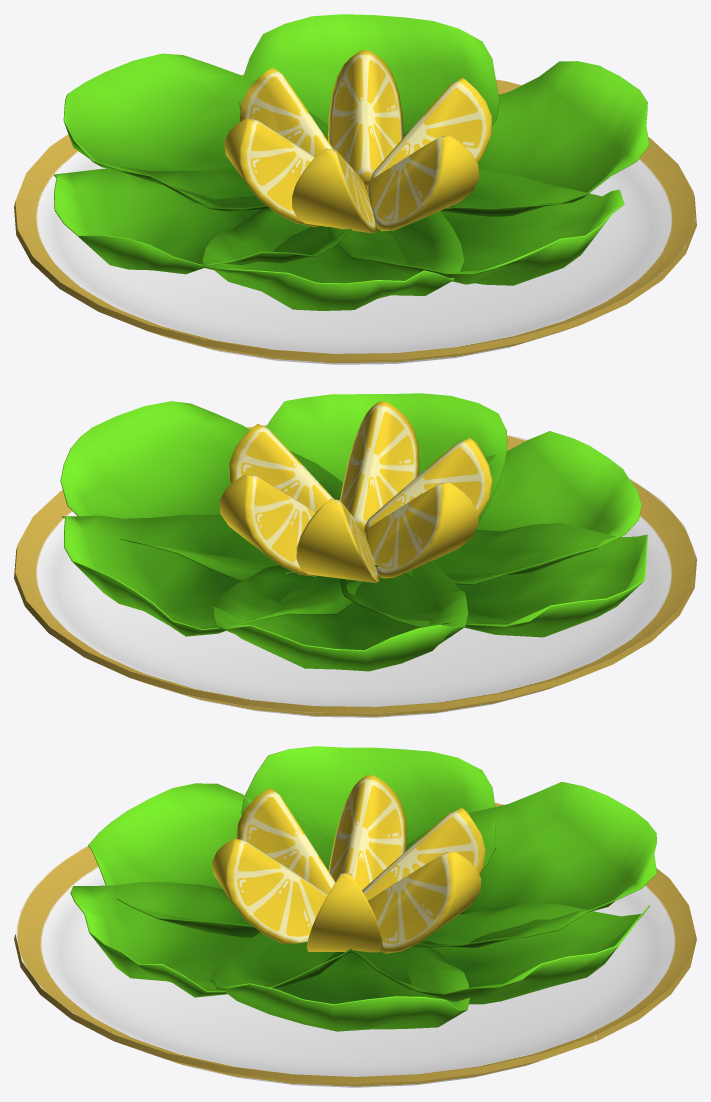
The model's file is TabaklıMarulCigkofte.fbx.
3 views of the same model, one above another, from view 1: azimuth 30°, elevation 25°; view 2: azimuth 150°, elevation 25°; view 3: azimuth 270°, elevation 25° (orthographic).
Visible parts, largest first — view 1: TabakMarulLimon; view 2: TabakMarulLimon; view 3: TabakMarulLimon.
Part boxes in pixels (<box>): TabakMarulLimon: <box>14,14,696,364</box>; TabakMarulLimon: <box>14,393,696,717</box>; TabakMarulLimon: <box>14,746,696,1087</box>.
Size of the model in its own units: 0.8717 by 0.189 by 0.8717.
